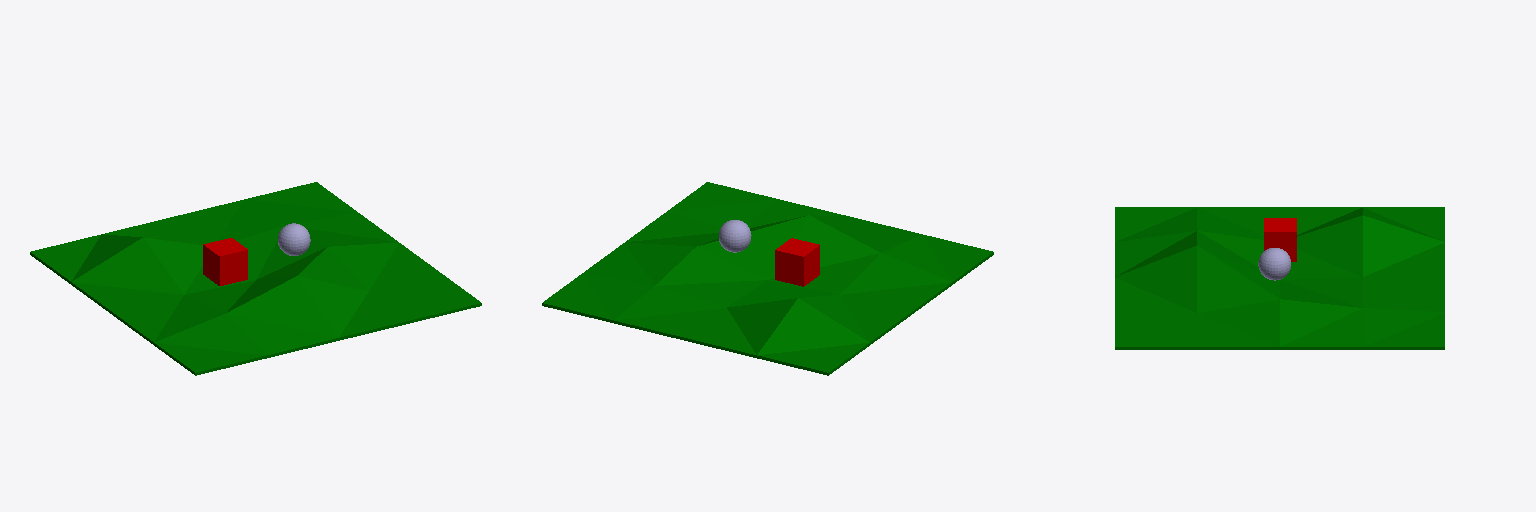
The picture shows the model from 3 angles: view 1: azimuth 30°, elevation 25°; view 2: azimuth 150°, elevation 25°; view 3: azimuth 270°, elevation 25°; orthographic projection.
Parts seen in each view (by area): view 1: Floor_Cube.002, Cube_Cube.001, Sphere; view 2: Floor_Cube.002, Cube_Cube.001, Sphere; view 3: Floor_Cube.002, Cube_Cube.001, Sphere.
Boxes of the visible parts, x1=… form: Floor_Cube.002: x1=30, y1=182, x2=481, y2=375; Cube_Cube.001: x1=203, y1=238, x2=247, y2=285; Sphere: x1=278, y1=223, x2=310, y2=255; Floor_Cube.002: x1=542, y1=182, x2=993, y2=375; Cube_Cube.001: x1=775, y1=238, x2=819, y2=286; Sphere: x1=719, y1=220, x2=751, y2=252; Floor_Cube.002: x1=1115, y1=207, x2=1444, y2=349; Cube_Cube.001: x1=1264, y1=218, x2=1296, y2=261; Sphere: x1=1258, y1=248, x2=1290, y2=280.
Bounding box in the file's own units: 20 × 3.24 × 20.